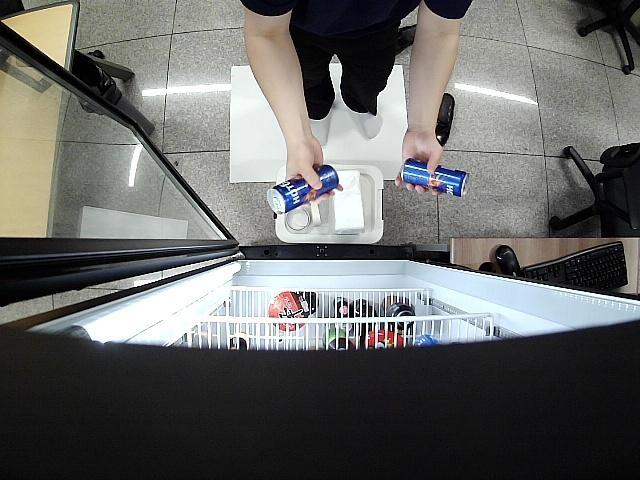16_hot6: (267, 164, 339, 214), (397, 156, 471, 198)
